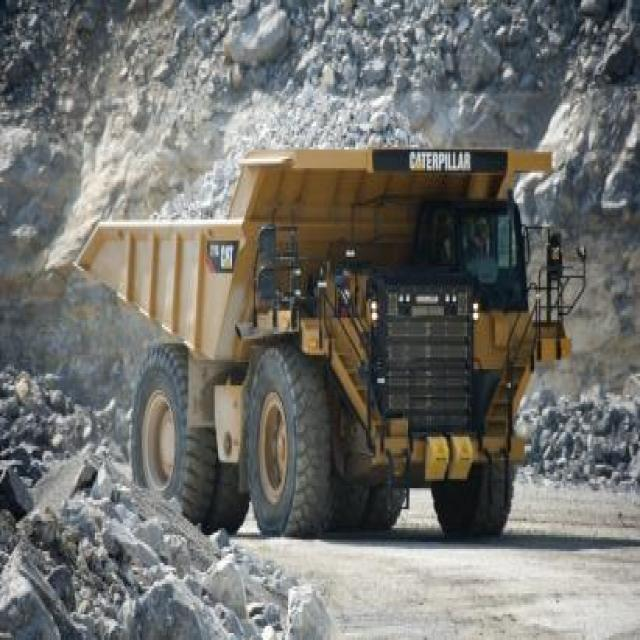dump_truck: (78, 138, 581, 549)
